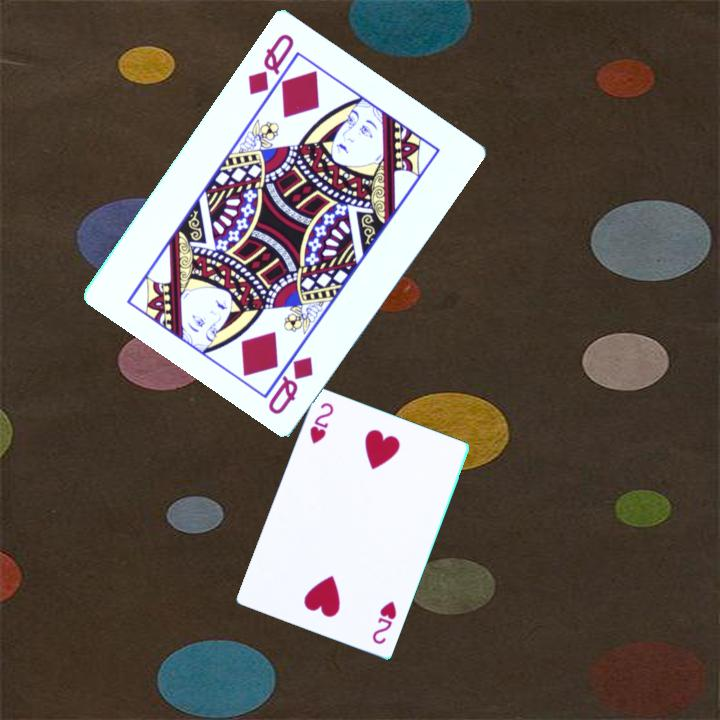2h: (369, 598, 400, 648), (306, 399, 337, 447)
Qd: (244, 29, 300, 106), (264, 352, 317, 417)
